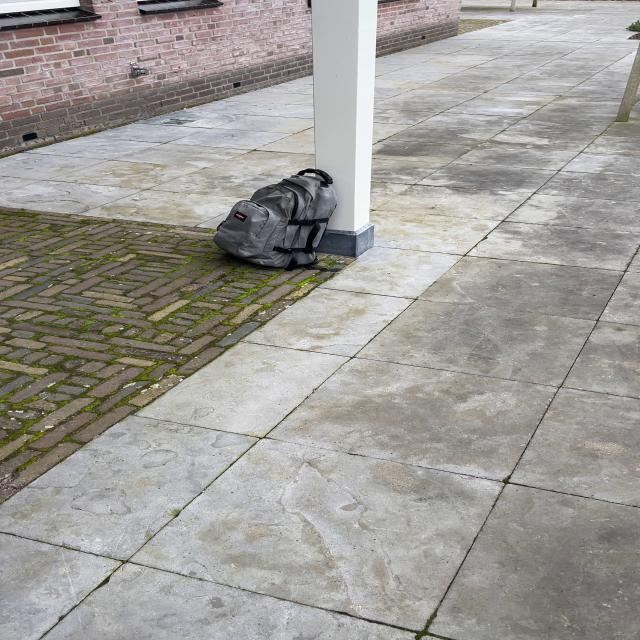backpack: (205, 167, 380, 273)
